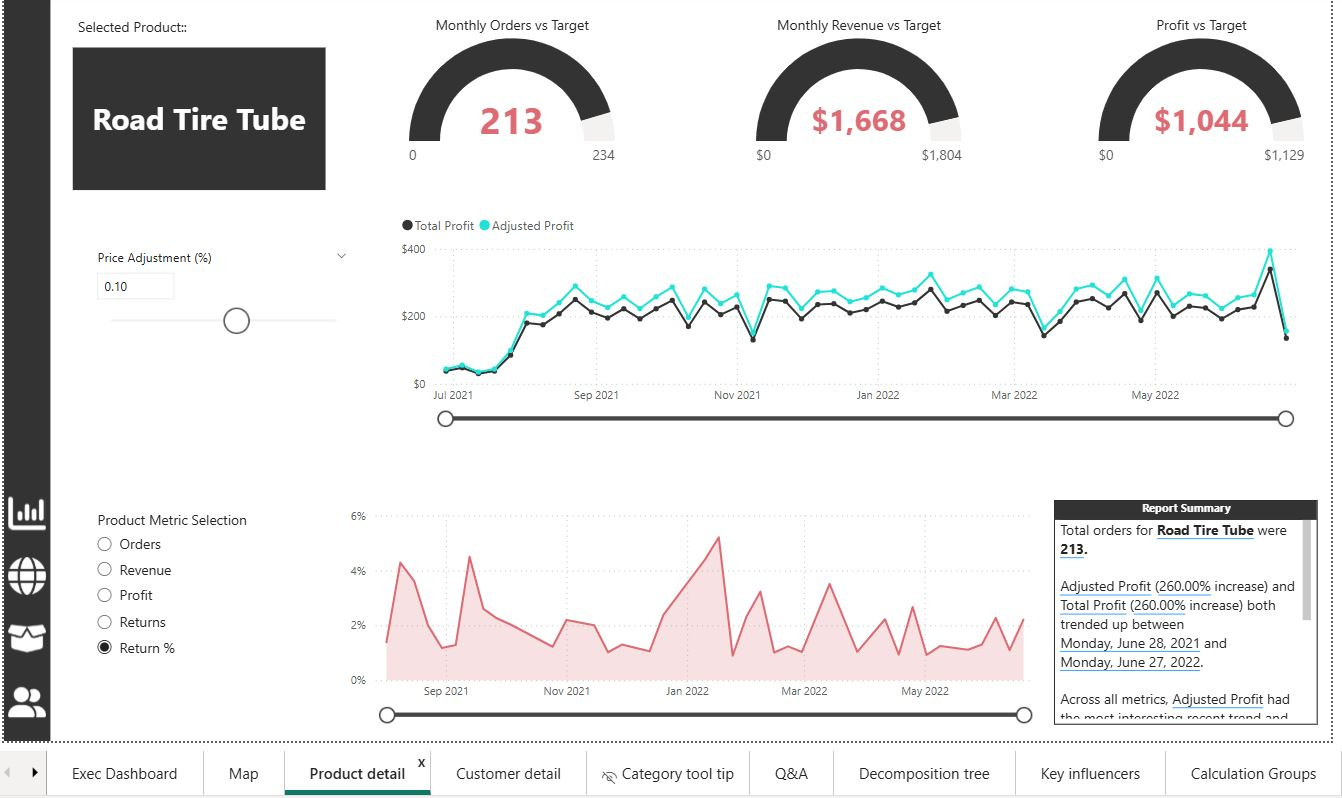

This screenshot's page, from the dashboard's own definition file:
{"tool":"powerbi","page":{"name":"Product detail","canvas":[1280,720],"ordinal":2},"visuals":[{"type":"shape","box":[0,0,45,720],"z":0},{"type":"actionButton","box":[0,475.9,44.5,48.4],"z":0,"group":"g1"},{"type":"gauge","title":"Monthly Orders vs Target","fields":{"Y":["Measure Table.Total Orders"],"MaxValue":["Measure Table.Order Target"]},"box":[378.8,19.3,223.2,154.4],"z":1000},{"type":"actionButton","box":[0,536.5,44.5,48.4],"z":1000,"group":"g1"},{"type":"gauge","title":"Monthly Revenue vs Target","fields":{"Y":["Measure Table.Total Revenue"],"MaxValue":["Measure Table.Revenue Target"]},"box":[712.4,19.3,224.4,154.4],"z":2000},{"type":"actionButton","box":[0,597.1,44.5,48.4],"z":2000,"group":"g1"},{"type":"gauge","title":"Profit vs Target","fields":{"Y":["Measure Table.Total Profit"],"MaxValue":["Measure Table.Profit Target"]},"box":[1047.2,19.3,217.2,154.4],"z":3000},{"type":"actionButton","box":[0,657.8,44.5,48.4],"z":3000,"group":"g1"},{"type":"lineChart","title":"Profit Trending","fields":{"Category":["Calendar Lookup.Date Hierarchy.Start of Year","Calendar Lookup.Date Hierarchy.Start of Month","Calendar Lookup.Date Hierarchy.Start of Week","Calendar Lookup.Date Hierarchy.Date"],"Y":["Measure Table.Total Profit","Measure Table.Adjusted Profit"]},"box":[379.2,203.1,888,216.7],"z":4000},{"type":"areaChart","title":"Return Trending","fields":{"Y":["Measure Table.Return Rate"],"Category":["Calendar Lookup.Date Hierarchy.Start of Year","Calendar Lookup.Date Hierarchy.Start of Month","Calendar Lookup.Date Hierarchy.Start of Week","Calendar Lookup.Date Hierarchy.Date"]},"box":[329.3,488.1,683.8,217],"z":5000},{"type":"card","fields":{"Values":["Min(Product Lookup.ProductName)"]},"box":[65.9,50.4,244.1,137.5],"z":6000},{"type":"textbox","box":[65.9,17.4,143.3,32.9],"z":7000},{"type":"group","id":"g1","title":"Navigation buttons","box":[0,475.9,44.5,230.2],"z":8000},{"type":"slicer","fields":{"Values":["Price Adjustment (%).Price Adjustment (%)"]},"box":[77.2,239.6,266.2,143.8],"z":9000},{"type":"slicer","fields":{"Values":["Product Metric Selection.Product Metric Selection"]},"box":[77.2,492.5,221,189],"z":10000},{"type":"textbox","title":"Report Summary","box":[1013,488,254,217],"z":11000}]}

Visuals, with their boxes on the page's 1280x720 design canvas (x1, y1, x2, y2). These are canvas units, not pixel positions in the 1342x798 screenshot, which may show the page scaled, cropped or inside an application window:
shape: detection(0, 0, 45, 720)
actionButton: detection(0, 476, 44, 524)
"Monthly Orders vs Target" gauge: detection(379, 19, 602, 174)
actionButton: detection(0, 536, 44, 585)
"Monthly Revenue vs Target" gauge: detection(712, 19, 937, 174)
actionButton: detection(0, 597, 44, 646)
"Profit vs Target" gauge: detection(1047, 19, 1264, 174)
actionButton: detection(0, 658, 44, 706)
"Profit Trending" lineChart: detection(379, 203, 1267, 420)
"Return Trending" areaChart: detection(329, 488, 1013, 705)
card - Min(Product Lookup.ProductName): detection(66, 50, 310, 188)
textbox: detection(66, 17, 209, 50)
"Navigation buttons" group: detection(0, 476, 44, 706)
slicer - Price Adjustment (%).Price Adjustment (%): detection(77, 240, 343, 383)
slicer - Product Metric Selection.Product Metric Selection: detection(77, 492, 298, 682)
"Report Summary" textbox: detection(1013, 488, 1267, 705)
